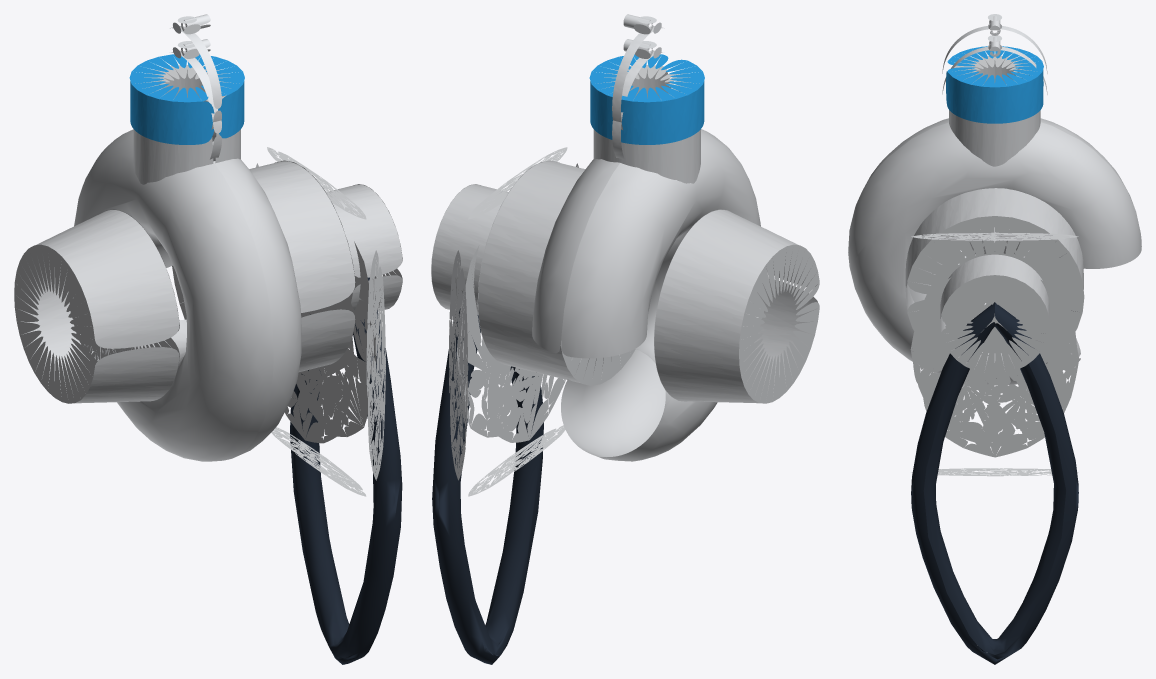
File: supercharger_centrifugal.glb
3 renders of one model, left to right at view 1: azimuth 30°, elevation 25°; view 2: azimuth 150°, elevation 25°; view 3: azimuth 270°, elevation 25°, orthographic. The views are drawn at different scales.
Parts seen in each view (by area): view 1: Centrifugal_Compressor_Volute, Centrifugal_Air_Inlet_Horn, Centrifugal_Cogged_Belt, CNC_Billet_Mounting_Bracket, Planetary_StepUp_Gearcase, Discharge_Silicone_Coupler, Centrifugal_Drive_Pulley, Boost_Discharge_Outlet_Duct, Centrifugal_Supercharger_Assembly; view 2: Centrifugal_Compressor_Volute, Centrifugal_Air_Inlet_Horn, Planetary_StepUp_Gearcase, Centrifugal_Cogged_Belt, CNC_Billet_Mounting_Bracket, Discharge_Silicone_Coupler, Centrifugal_Drive_Pulley, Boost_Discharge_Outlet_Duct, Centrifugal_Supercharger_Assembly; view 3: Centrifugal_Compressor_Volute, Centrifugal_Cogged_Belt, CNC_Billet_Mounting_Bracket, Planetary_StepUp_Gearcase, Centrifugal_Drive_Pulley, Discharge_Silicone_Coupler, Boost_Discharge_Outlet_Duct, Centrifugal_Supercharger_Assembly.
Part boxes in pixels (x1,y1,x2,y2): Centrifugal_Compressor_Volute: (74, 129, 301, 461); Centrifugal_Air_Inlet_Horn: (14, 209, 179, 403); Centrifugal_Cogged_Belt: (290, 277, 402, 664); CNC_Billet_Mounting_Bracket: (256, 147, 385, 496); Planetary_StepUp_Gearcase: (172, 160, 355, 371); Discharge_Silicone_Coupler: (129, 54, 244, 144); Centrifugal_Drive_Pulley: (321, 184, 402, 311); Boost_Discharge_Outlet_Duct: (133, 65, 240, 184); Centrifugal_Supercharger_Assembly: (170, 14, 221, 161); Centrifugal_Compressor_Volute: (532, 129, 760, 461); Centrifugal_Air_Inlet_Horn: (654, 209, 819, 403); Planetary_StepUp_Gearcase: (477, 160, 635, 385); Centrifugal_Cogged_Belt: (432, 308, 543, 664); CNC_Billet_Mounting_Bracket: (449, 147, 578, 496); Discharge_Silicone_Coupler: (589, 54, 704, 144); Centrifugal_Drive_Pulley: (431, 184, 508, 314); Boost_Discharge_Outlet_Duct: (593, 65, 700, 183); Centrifugal_Supercharger_Assembly: (612, 14, 664, 159); Centrifugal_Compressor_Volute: (848, 118, 1141, 384); Centrifugal_Cogged_Belt: (911, 302, 1078, 664); CNC_Billet_Mounting_Bracket: (910, 232, 1079, 476); Planetary_StepUp_Gearcase: (905, 188, 1084, 376); Centrifugal_Drive_Pulley: (940, 254, 1049, 374); Discharge_Silicone_Coupler: (946, 46, 1043, 123); Boost_Discharge_Outlet_Duct: (949, 56, 1040, 166); Centrifugal_Supercharger_Assembly: (942, 14, 1047, 94).
Bounding box in the file's own units: 0.215 × 0.444 × 0.2035.
